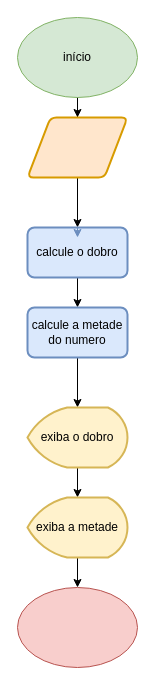
This 155x685 diagram has some shape labels left out. The shapes that lost their labels are listed below. From the top down, each one's centre as x and y in pixels, then its label:
At point 77,147: "obtenha um numero".
At point 77,627: "Fim".
